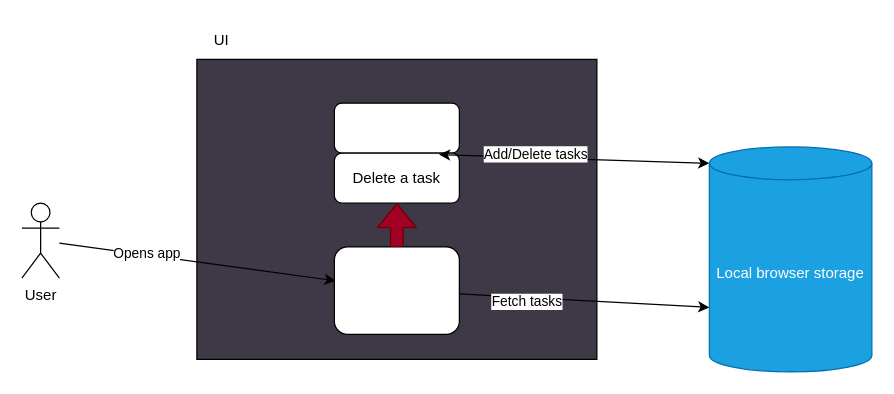
The diagram is 894 pixels wide and 394 high, and some of its shapes have lost their labels. Each missing label, with the centre of its shape:
"Create a task" belongs at pixel 396 127.
"Display the tasks" belongs at pixel 396 290.
